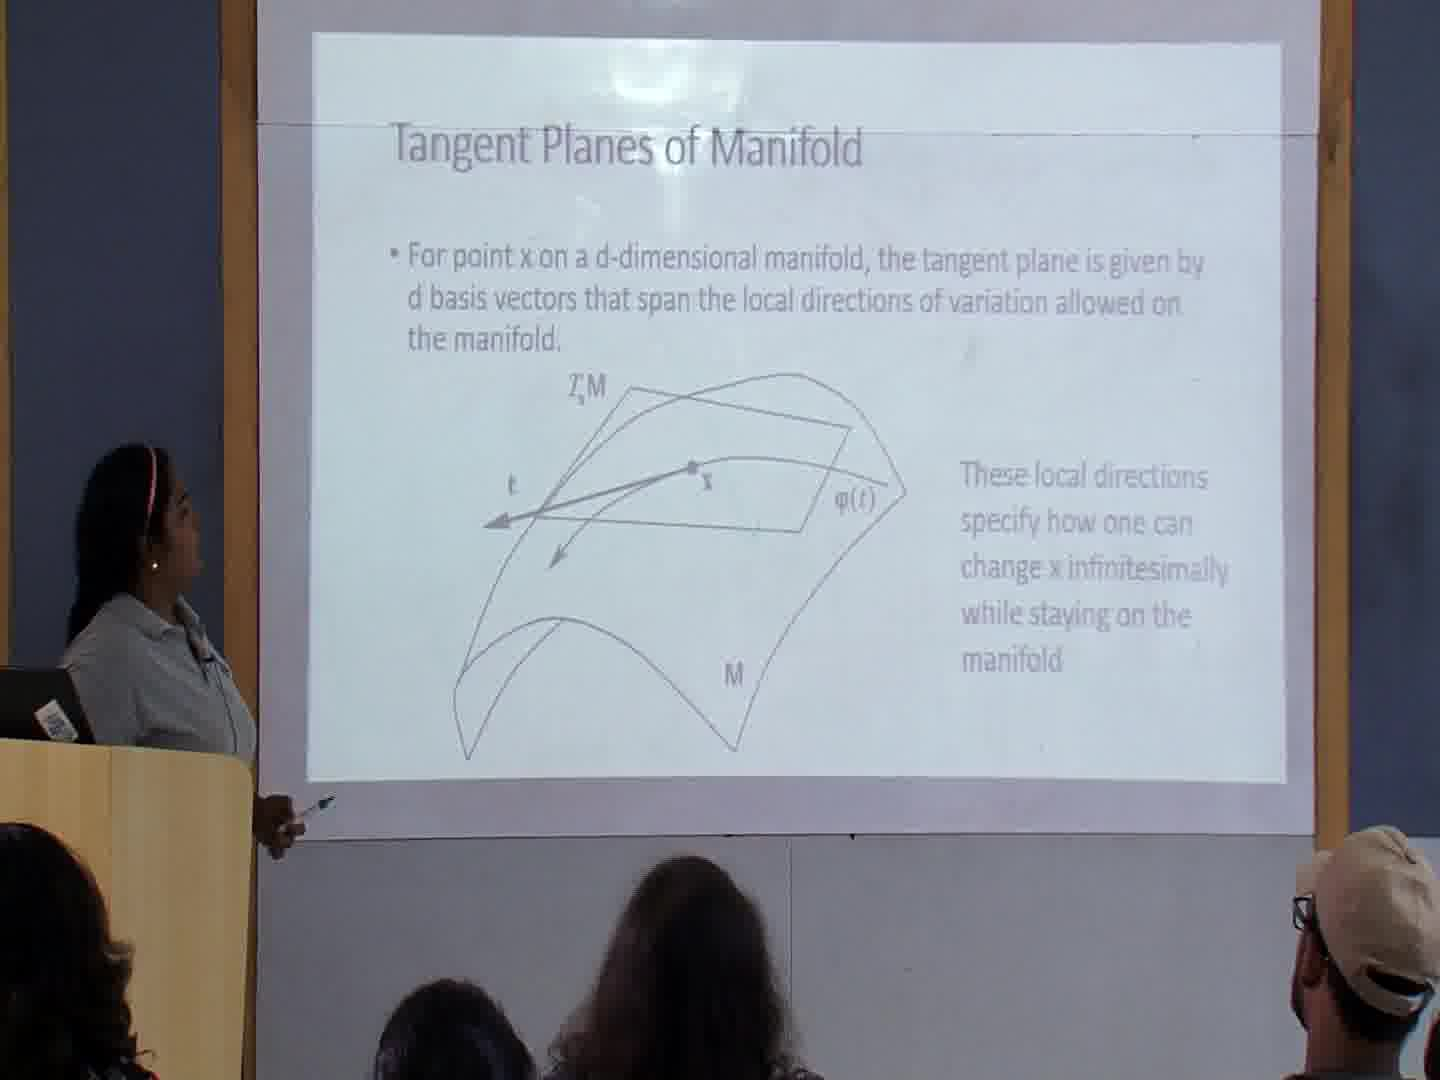slide: (307, 32, 1288, 785)
